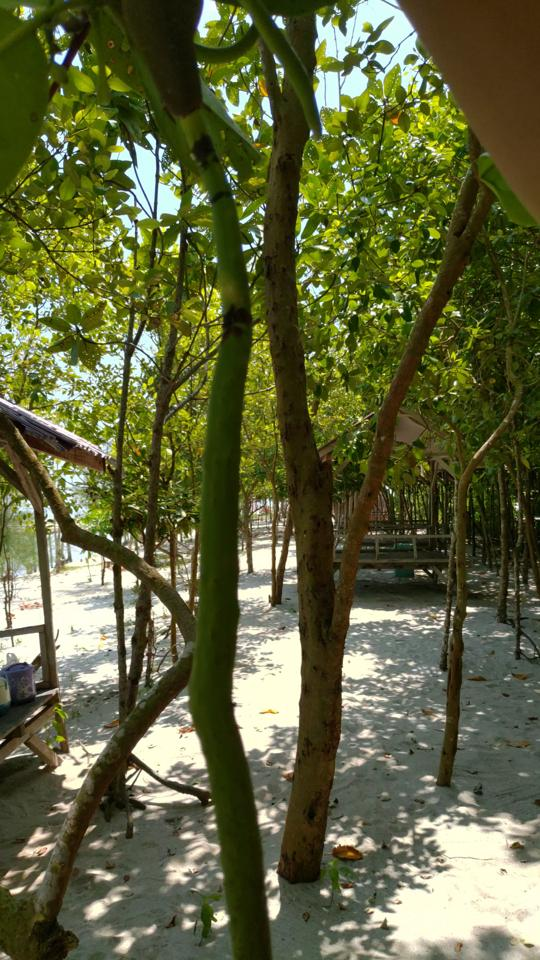setengah matang: (108, 1, 283, 958)
